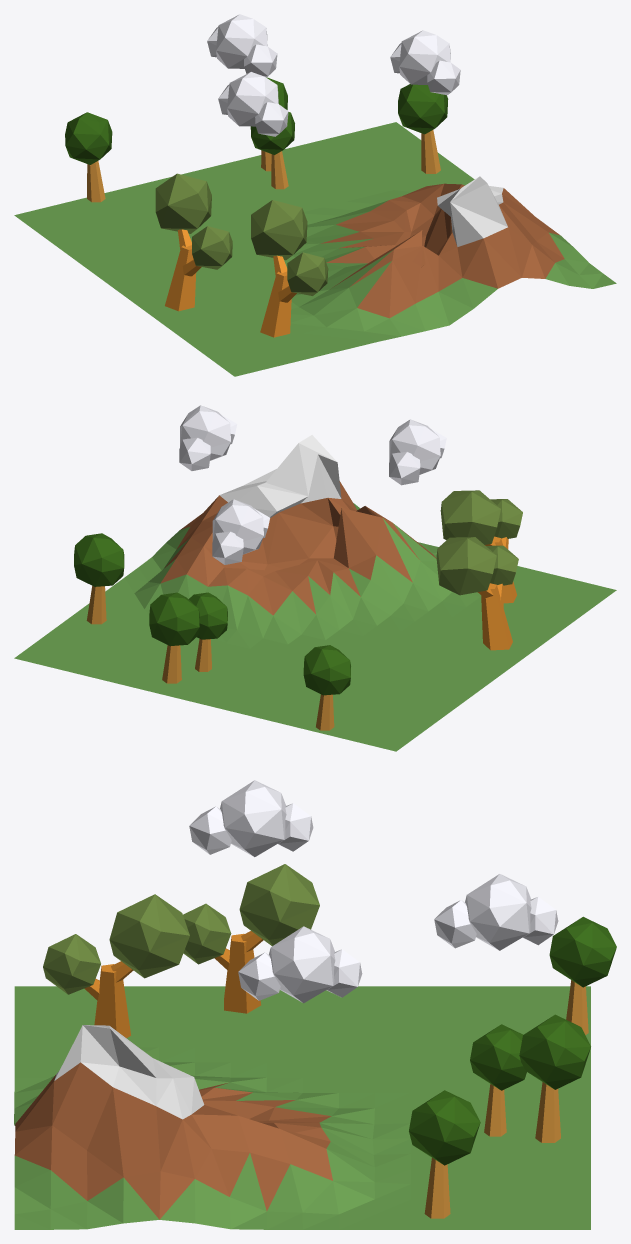
Rendered from low_poly_mountain.glb.
The picture shows the model from 3 angles, top to bottom: view 1: azimuth 30°, elevation 25°; view 2: azimuth 150°, elevation 25°; view 3: azimuth 270°, elevation 25°; orthographic projection. The views are drawn at different scales.
Visible parts, largest first — view 1: Plane, Icosphere, Icosphere.001, Icosphere.002, Icosphere.004, Icosphere.003, Cylinder.002, Cylinder.003, Cylinder.001; view 2: Plane, Icosphere, Icosphere.001, Cylinder, Cylinder.002, Icosphere.003, Icosphere.002, Icosphere.004, Cylinder.003, Cylinder.001; view 3: Plane, Icosphere.001, Icosphere, Icosphere.002, Icosphere.004, Icosphere.003, Cylinder.002, Cylinder, Cylinder.003, Cylinder.001.
Part boxes in pixels (box(x1,y1,x2,y2)): Plane: box(14, 122, 616, 376); Icosphere: box(155, 173, 232, 311); Icosphere.001: box(251, 200, 328, 337); Icosphere.002: box(218, 72, 288, 136); Icosphere.004: box(390, 30, 460, 95); Icosphere.003: box(207, 14, 277, 77); Cylinder.002: box(398, 84, 448, 173); Cylinder.003: box(65, 112, 112, 202); Cylinder.001: box(250, 112, 294, 189); Plane: box(14, 435, 616, 751); Icosphere: box(436, 537, 518, 650); Icosphere.001: box(440, 490, 522, 603); Cylinder: box(149, 592, 199, 683); Cylinder.002: box(74, 533, 124, 624); Icosphere.003: box(212, 499, 269, 564); Icosphere.002: box(389, 419, 446, 485); Icosphere.004: box(179, 405, 237, 470); Cylinder.003: box(303, 645, 350, 730); Cylinder.001: box(188, 592, 227, 671); Plane: box(14, 986, 590, 1229); Icosphere.001: box(43, 894, 189, 1038); Icosphere: box(183, 864, 319, 1013); Icosphere.002: box(189, 780, 313, 857); Icosphere.004: box(238, 926, 362, 1003); Icosphere.003: box(434, 874, 558, 950); Cylinder.002: box(409, 1090, 480, 1218); Cylinder: box(519, 1014, 590, 1142); Cylinder.003: box(549, 916, 616, 1034); Cylinder.001: box(470, 1024, 526, 1136).
Size of the model in its own units: 14.72 by 7.67 by 15.4.
